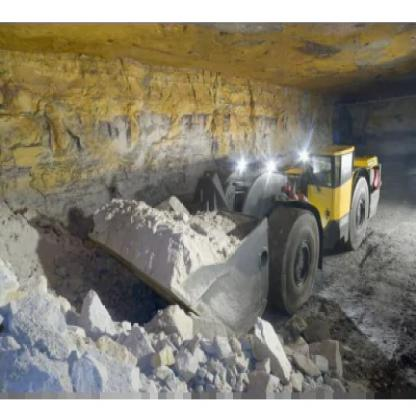bull_dozer/loader/grader: (91, 101, 388, 315)
